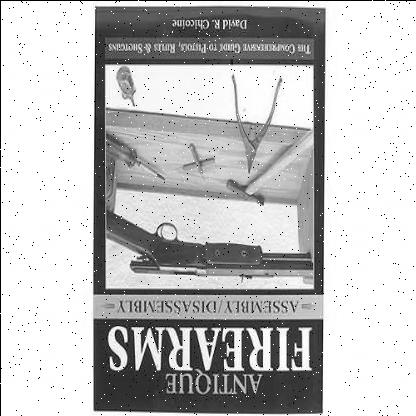rifle: (96, 205, 315, 295)
